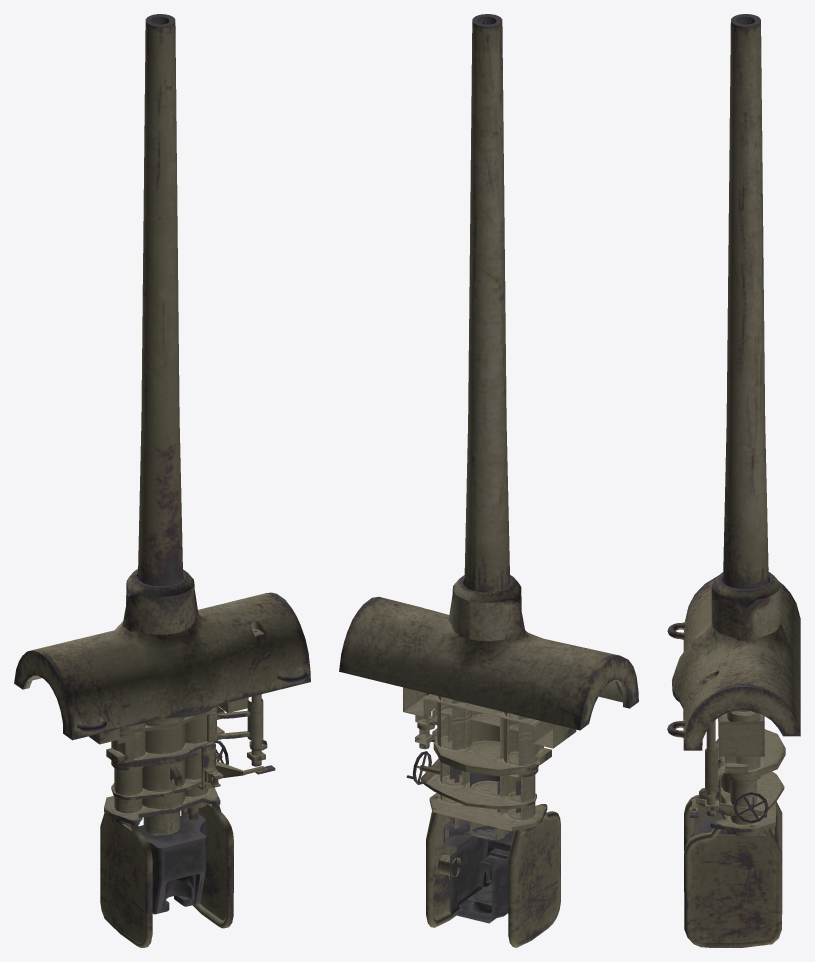
File: Gun_02.glb
The picture shows the model from 3 angles, left to right: view 1: azimuth 30°, elevation 25°; view 2: azimuth 150°, elevation 25°; view 3: azimuth 270°, elevation 25°; orthographic projection.
Visible parts, largest first — view 1: set_0_group_0; view 2: set_0_group_0; view 3: set_0_group_0.
Part boxes in pixels (x1=…): set_0_group_0: x1=14, y1=14, x2=310, y2=947; set_0_group_0: x1=339, y1=14, x2=638, y2=947; set_0_group_0: x1=667, y1=14, x2=800, y2=947.
Size of the model in its own units: 1.36 by 4.9 by 0.6537.
Materials: 1 (1 with a texture image).
